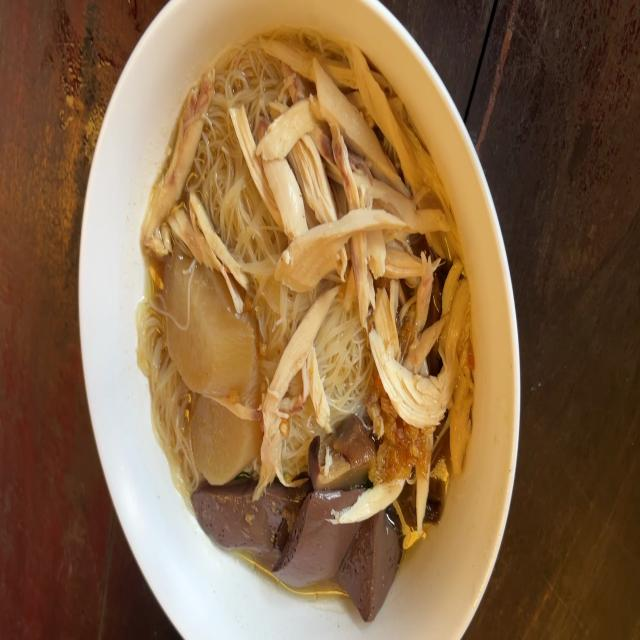noodle: (196, 485, 408, 615)
